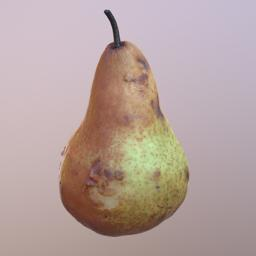Pear Semirotten: (59, 7, 191, 237)
